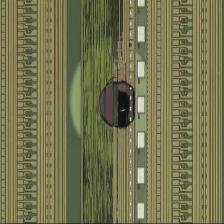PARTICLE: (96, 77, 141, 133)
